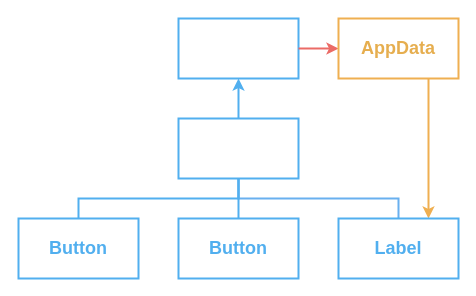
The diagram is 476 pixels wide and 296 high, and some of its shapes have lost their labels. Here are the shapes that lost their labels. From the top down, the centre of each, then its label:
At point (238, 48): "Window".
At point (238, 148): "HStack".
